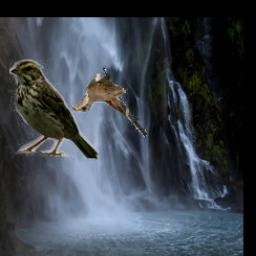Cuckoo: (71, 66, 147, 137)
Sparrow: (10, 59, 100, 161)
